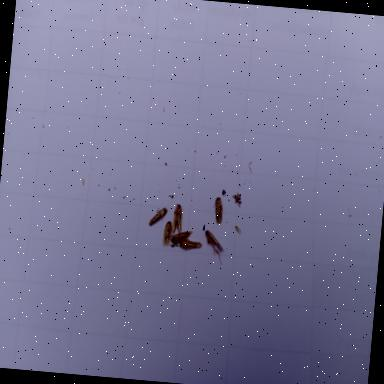pbw: (148, 205, 168, 227), (171, 203, 184, 234), (170, 229, 193, 246), (212, 196, 225, 225), (178, 238, 202, 252), (162, 218, 173, 248)
